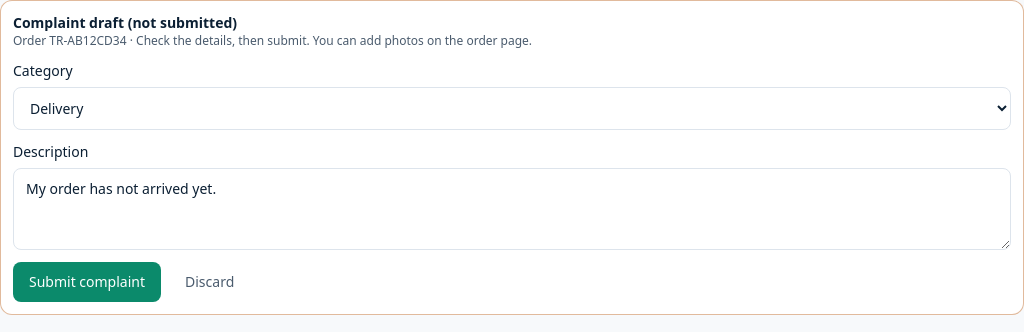
Test: ComplaintDraftCard › submits the (edited) draft through the normal complaints endpoint
This screenshot has width=1024, height=332.
Select "Wrong product" in the dropdown labelled "Category" at point(512, 108), box [13,87,1011,130]
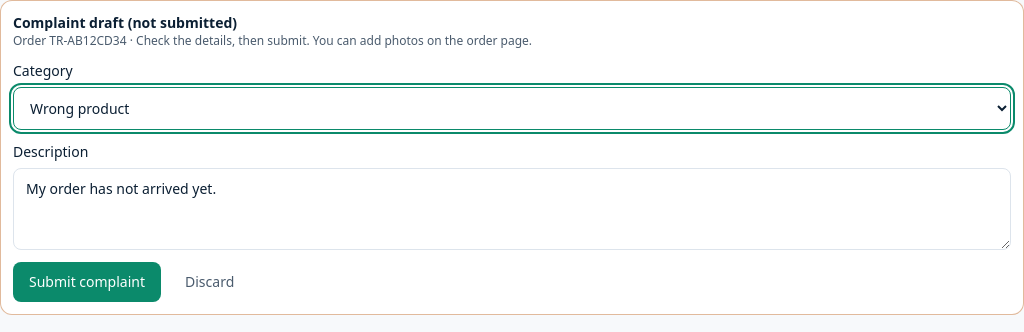
Replace the text in the text box labelled "Description" with "I received a different saree." at point(512, 209), box [13,168,1011,250]
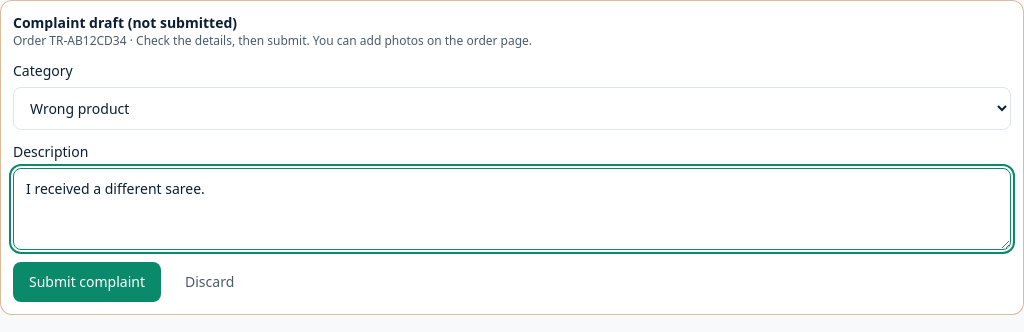
Click the button "Submit complaint" at point(87, 282), box [13,262,161,302]
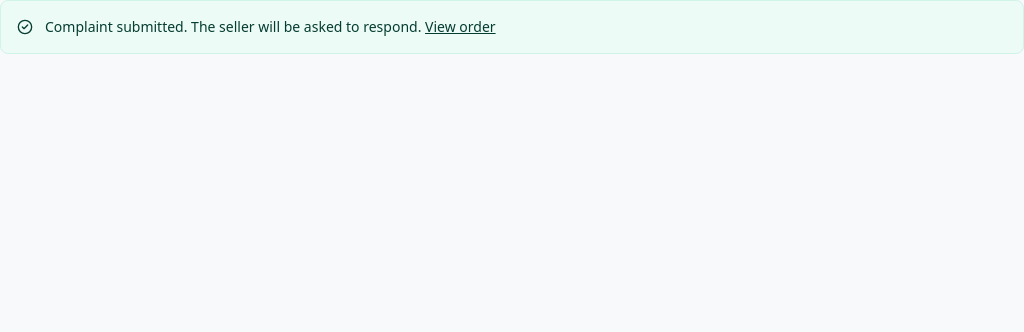
Check: the text "Complaint submitted" is shown, box [45,17,421,36]
